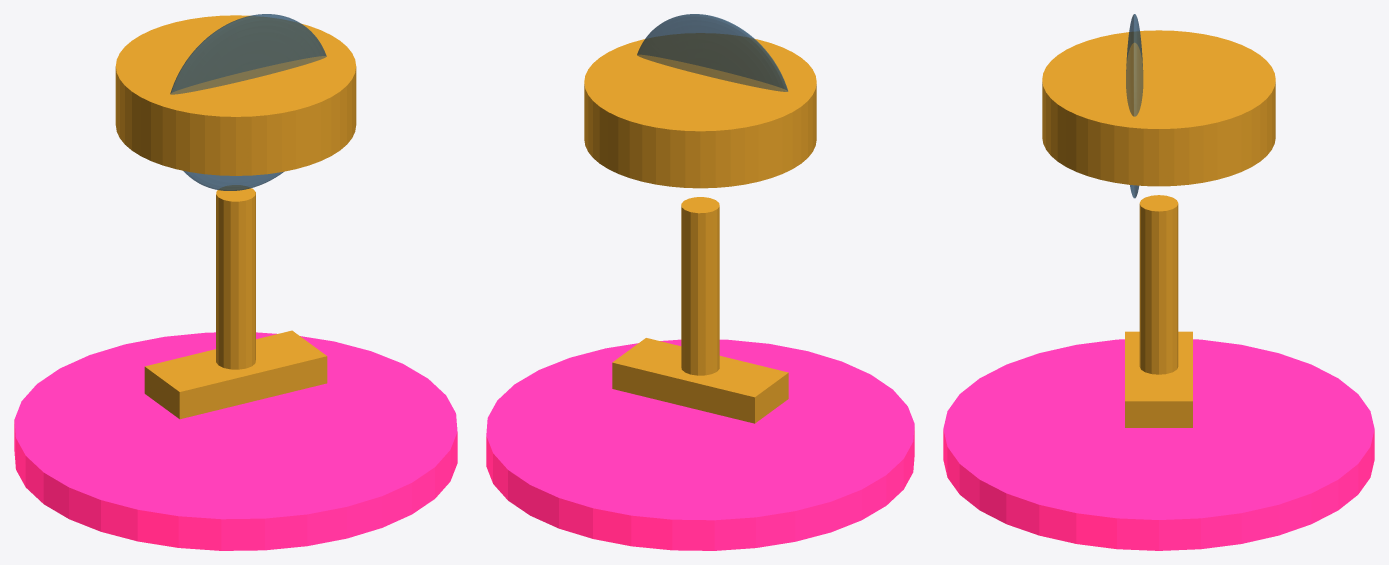
File: beauty_vanity_mirror.dae
The picture shows the model from 3 angles, left to right: view 1: azimuth 30°, elevation 25°; view 2: azimuth 150°, elevation 25°; view 3: azimuth 270°, elevation 25°; orthographic projection. The views are drawn at different scales.
Visible parts, largest first — view 1: 03_20_Popular_Beauty_Vanity_Mirror_ROOT_base, 03_20_Popular_Beauty_Vanity_Mirror_part_01, 03_20_Popular_Beauty_Vanity_Mirror_part_03, 03_20_Popular_Beauty_Vanity_Mirror_part_04, 03_20_Popular_Beauty_Vanity_Mirror_part_02; view 2: 03_20_Popular_Beauty_Vanity_Mirror_ROOT_base, 03_20_Popular_Beauty_Vanity_Mirror_part_01, 03_20_Popular_Beauty_Vanity_Mirror_part_03, 03_20_Popular_Beauty_Vanity_Mirror_part_04, 03_20_Popular_Beauty_Vanity_Mirror_part_02; view 3: 03_20_Popular_Beauty_Vanity_Mirror_ROOT_base, 03_20_Popular_Beauty_Vanity_Mirror_part_01, 03_20_Popular_Beauty_Vanity_Mirror_part_02, 03_20_Popular_Beauty_Vanity_Mirror_part_03, 03_20_Popular_Beauty_Vanity_Mirror_part_04.
Part boxes in pixels (box(x1,y1,x2,y2)): 03_20_Popular_Beauty_Vanity_Mirror_ROOT_base: box(14, 332, 457, 550); 03_20_Popular_Beauty_Vanity_Mirror_part_01: box(115, 15, 356, 175); 03_20_Popular_Beauty_Vanity_Mirror_part_03: box(144, 330, 327, 419); 03_20_Popular_Beauty_Vanity_Mirror_part_04: box(170, 14, 326, 190); 03_20_Popular_Beauty_Vanity_Mirror_part_02: box(216, 185, 255, 369); 03_20_Popular_Beauty_Vanity_Mirror_ROOT_base: box(486, 339, 914, 550); 03_20_Popular_Beauty_Vanity_Mirror_part_01: box(584, 33, 816, 188); 03_20_Popular_Beauty_Vanity_Mirror_part_03: box(612, 338, 788, 423); 03_20_Popular_Beauty_Vanity_Mirror_part_04: box(637, 14, 787, 91); 03_20_Popular_Beauty_Vanity_Mirror_part_02: box(681, 197, 719, 375); 03_20_Popular_Beauty_Vanity_Mirror_ROOT_base: box(943, 339, 1374, 550); 03_20_Popular_Beauty_Vanity_Mirror_part_01: box(1042, 30, 1275, 186); 03_20_Popular_Beauty_Vanity_Mirror_part_02: box(1139, 195, 1178, 374); 03_20_Popular_Beauty_Vanity_Mirror_part_03: box(1125, 331, 1192, 427); 03_20_Popular_Beauty_Vanity_Mirror_part_04: box(1126, 14, 1143, 198).
Size of the model in its own units: 0.76 by 0.85 by 0.76.
